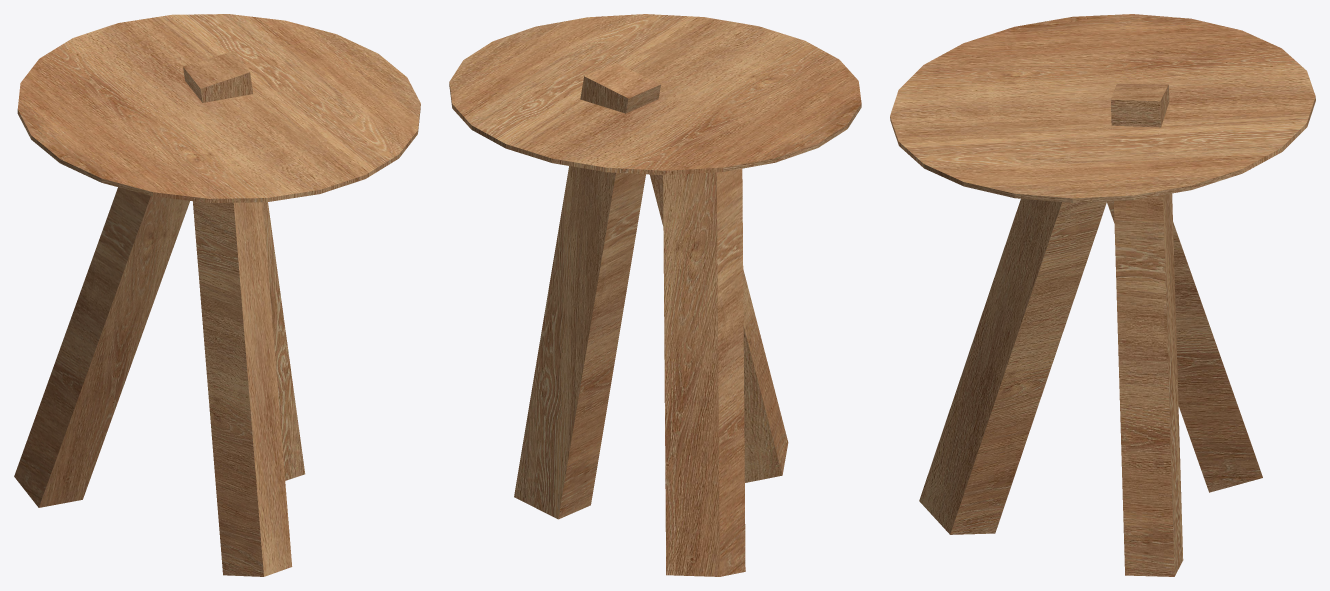
File: 33007_ours.glb
3 renders of one model, left to right at view 1: azimuth 30°, elevation 25°; view 2: azimuth 150°, elevation 25°; view 3: azimuth 270°, elevation 25°, orthographic. The views are drawn at different scales.
Visible parts, largest first — view 1: ParentEmpty; view 2: ParentEmpty; view 3: ParentEmpty.
Boxes of the visible parts, x1,y1,x2,y2 form: ParentEmpty: [14, 14, 420, 576]; ParentEmpty: [449, 14, 861, 576]; ParentEmpty: [890, 14, 1315, 576].
Size of the model in its own units: 0.8213 by 1 by 0.8291.
Materials: 1 (1 with a texture image).
